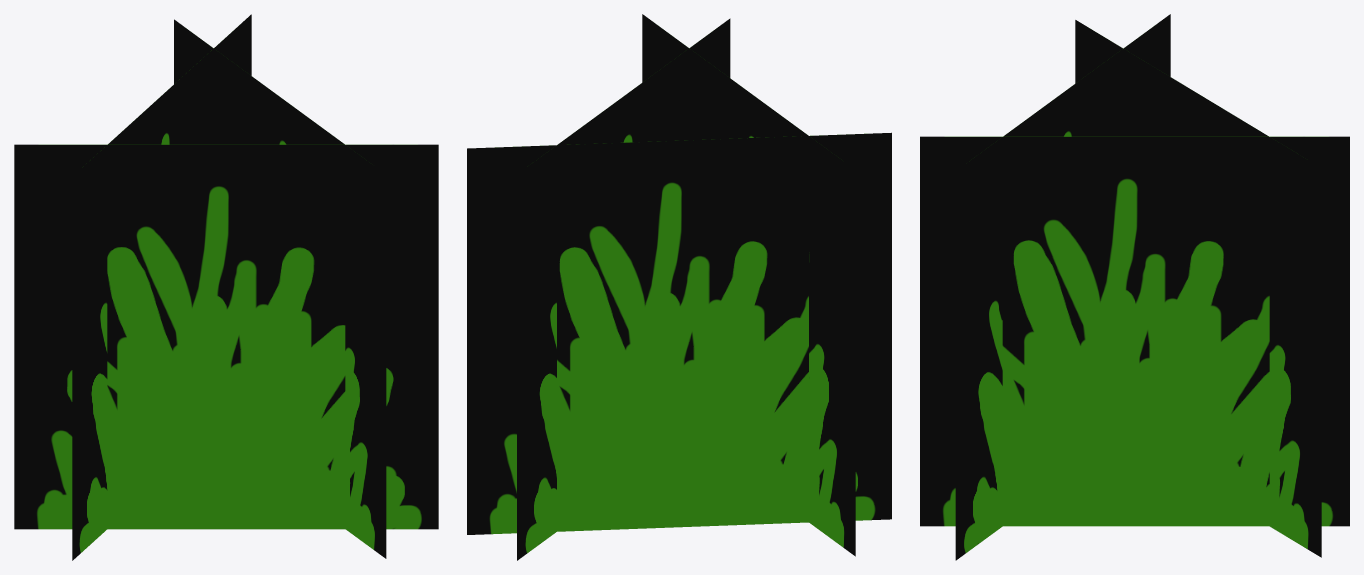
Rendered from grass.glb.
3 views of the same model, side by side, from view 1: azimuth 30°, elevation 25°; view 2: azimuth 150°, elevation 25°; view 3: azimuth 270°, elevation 25° (orthographic).
Parts seen in each view (by area): view 1: Plane.013, Plane.010, Plane.012; view 2: Plane.012, Plane.013, Plane.010; view 3: Plane.010, Plane.012, Plane.013.
Boxes of the visible parts, x1,y1,x2,y2 form: Plane.013: (14,144,438,529); Plane.010: (174,19,386,558); Plane.012: (72,14,251,560); Plane.012: (467,132,891,534); Plane.013: (642,14,855,556); Plane.010: (517,18,730,560); Plane.010: (920,136,1349,526); Plane.012: (1075,20,1321,557); Plane.013: (955,14,1170,560).
Size of the model in its own units: 1.73 by 2 by 2.
1 material, 1 textured.
